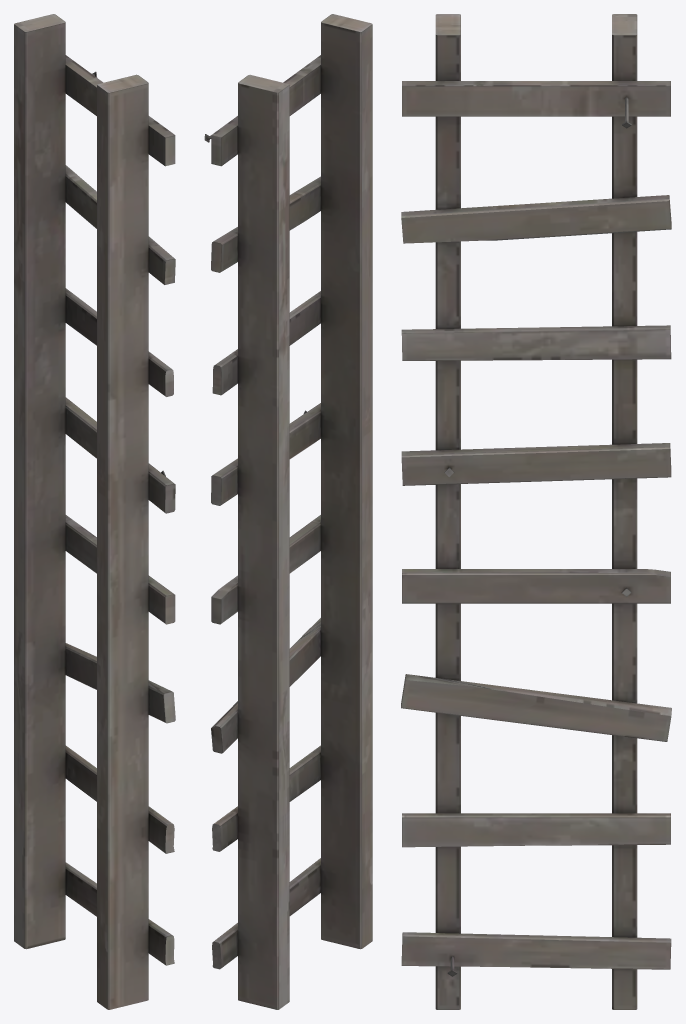
3 renders of one model, left to right at view 1: azimuth 30°, elevation 25°; view 2: azimuth 150°, elevation 25°; view 3: azimuth 270°, elevation 25°, orthographic. The views are drawn at different scales.
Parts seen in each view (by area): view 1: body0_model0_lod0_mesh0; view 2: body0_model0_lod0_mesh0; view 3: body0_model0_lod0_mesh0.
Boxes of the visible parts, left/top/right/bottom form: body0_model0_lod0_mesh0: left=14, top=14, right=175, bottom=1009; body0_model0_lod0_mesh0: left=204, top=14, right=372, bottom=1009; body0_model0_lod0_mesh0: left=401, top=14, right=671, bottom=1009.
Bounding box in the file's own units: 11.44 × 128 × 32.24.
1 material, 1 textured.
